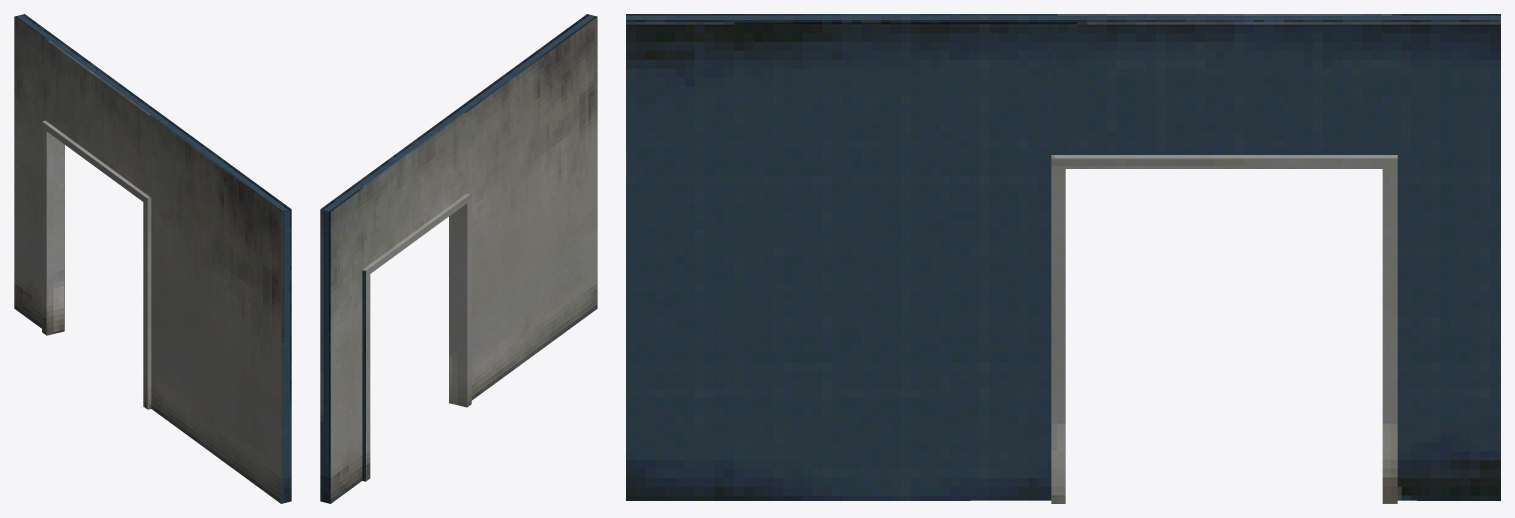
Rendered from SM_MorgueRoom_Doorway_L.fbx.
3 views of the same model, side by side, from view 1: azimuth 30°, elevation 25°; view 2: azimuth 150°, elevation 25°; view 3: azimuth 270°, elevation 25° (orthographic). The views are drawn at different scales.
Parts seen in each view (by area): view 1: SM_MorgueRoom_Doorway_L; view 2: SM_MorgueRoom_Doorway_L; view 3: SM_MorgueRoom_Doorway_L.
Part boxes in pixels (x1,y1,x2,y2): SM_MorgueRoom_Doorway_L: (14,14,291,503); SM_MorgueRoom_Doorway_L: (320,14,597,503); SM_MorgueRoom_Doorway_L: (626,14,1500,503).
Size of the model in its own units: 19.51 by 300 by 497.
